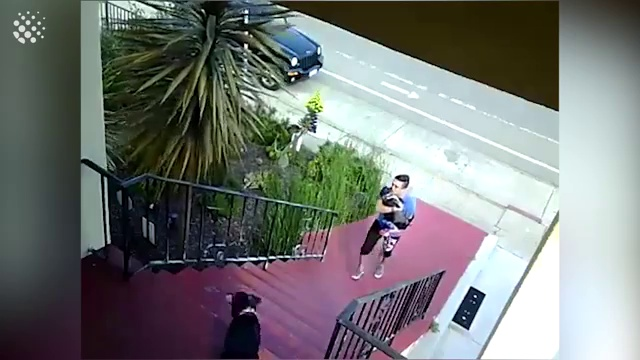face: (390, 177, 403, 194)
